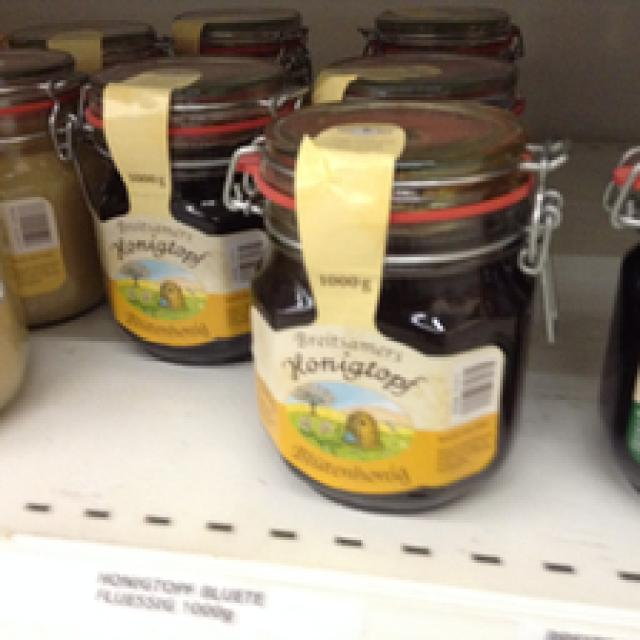groceries: (209, 100, 580, 514), (57, 54, 300, 374)
